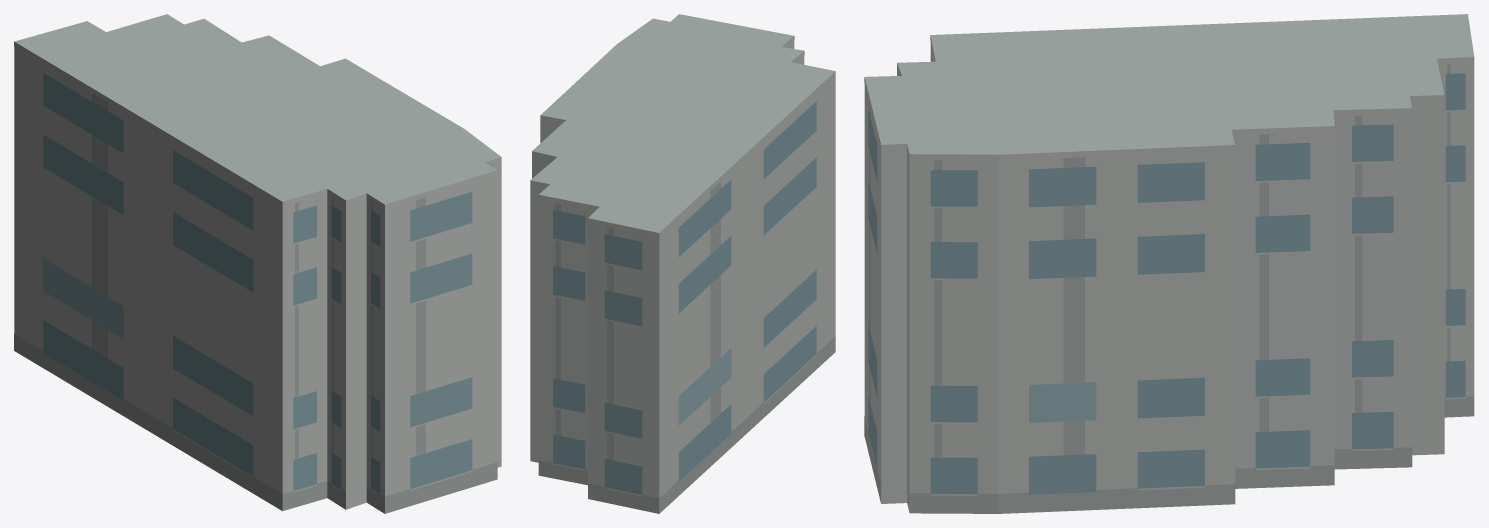
The model's file is survey-upis-32916856.glb.
The picture shows the model from 3 angles, left to right: view 1: azimuth 30°, elevation 25°; view 2: azimuth 150°, elevation 25°; view 3: azimuth 270°, elevation 25°; orthographic projection. The views are drawn at different scales.
Visible parts, largest first — view 1: survey-upis-32916856.tmp; view 2: survey-upis-32916856.tmp; view 3: survey-upis-32916856.tmp.
Part boxes in pixels (x1,y1,x2,y2): survey-upis-32916856.tmp: (14,14,501,513); survey-upis-32916856.tmp: (530,14,835,513); survey-upis-32916856.tmp: (864,14,1474,513).
Size of the model in its own units: 12.35 by 14.7 by 22.62.
